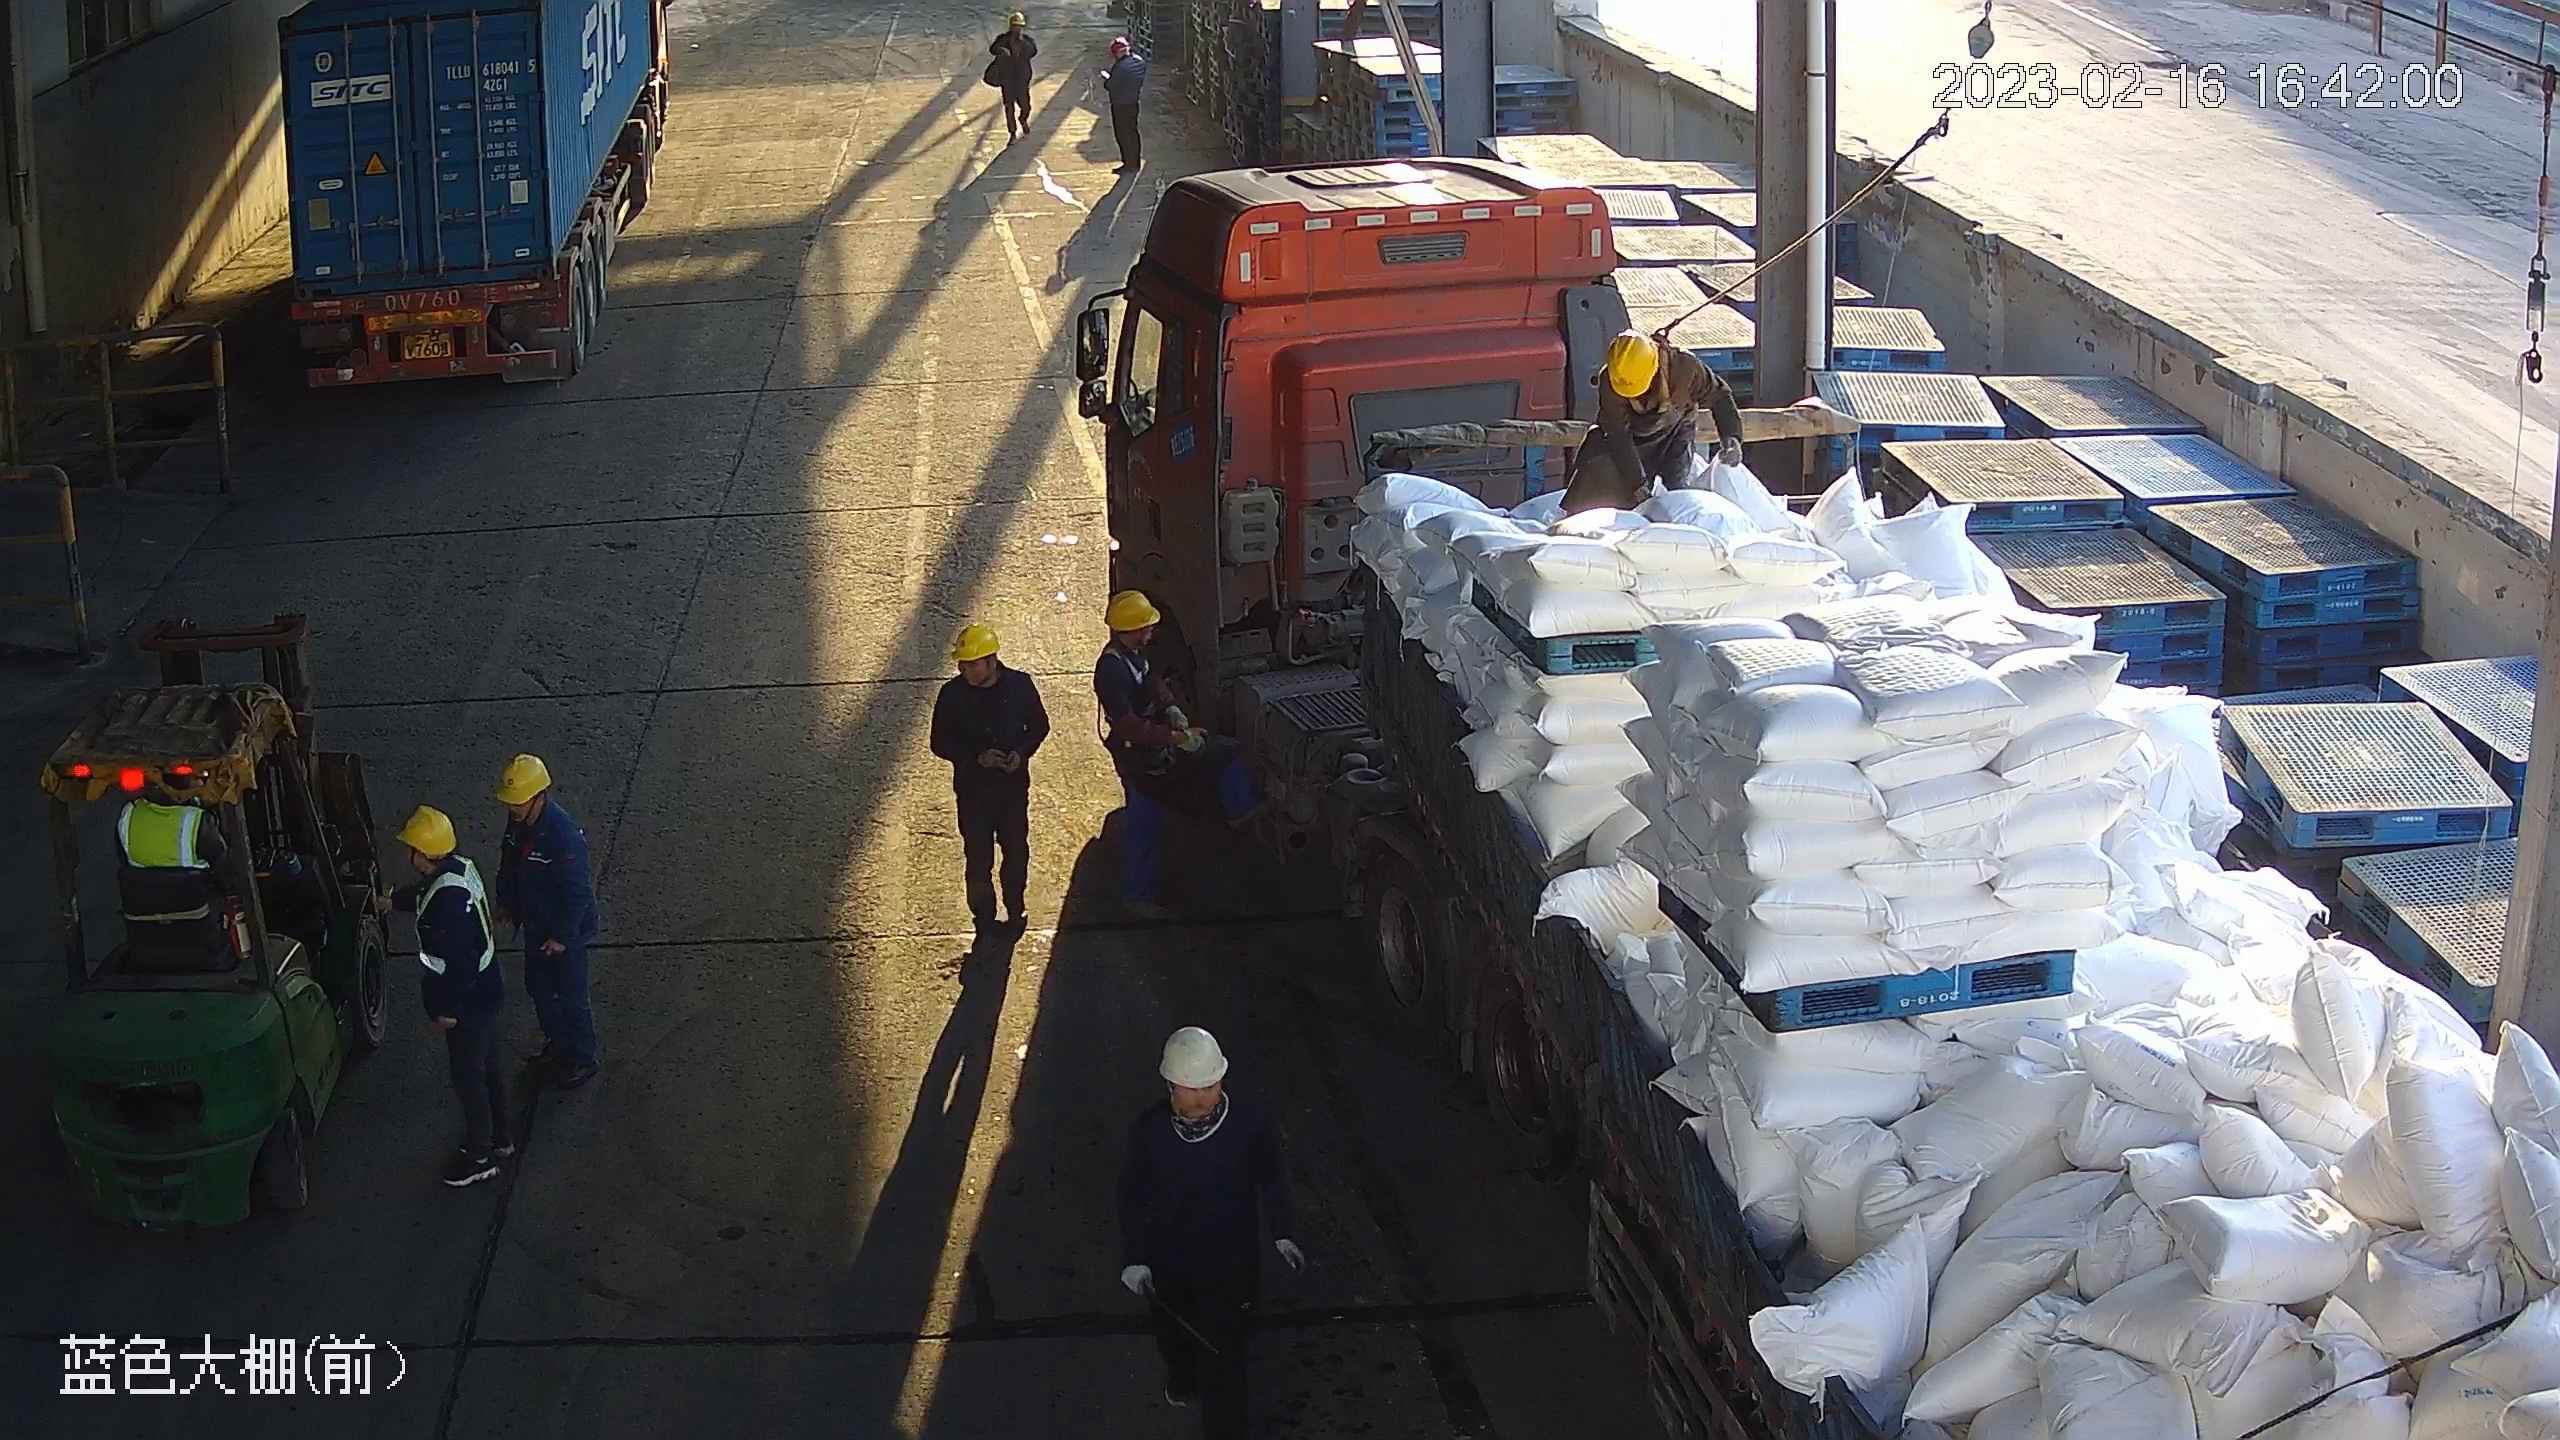belt: (1630, 318, 1687, 419)
head: (1124, 1023, 1276, 1161), (378, 805, 489, 923), (495, 747, 591, 876), (1592, 327, 1694, 427), (932, 621, 1037, 707), (1095, 588, 1172, 698), (981, 11, 1036, 58), (1100, 35, 1145, 75)
helmet: (1156, 1023, 1231, 1089), (394, 806, 459, 858), (495, 748, 553, 800), (1103, 590, 1161, 630), (951, 624, 999, 660), (1111, 38, 1131, 51), (1009, 13, 1026, 24)
people: (1117, 1022, 1303, 1440), (1095, 588, 1270, 922), (378, 807, 517, 1186), (929, 624, 1047, 930), (1561, 326, 1746, 518), (495, 752, 603, 1084), (983, 11, 1037, 146), (1095, 36, 1147, 172)
truck: (1068, 155, 2560, 1440), (273, 3, 670, 395)
